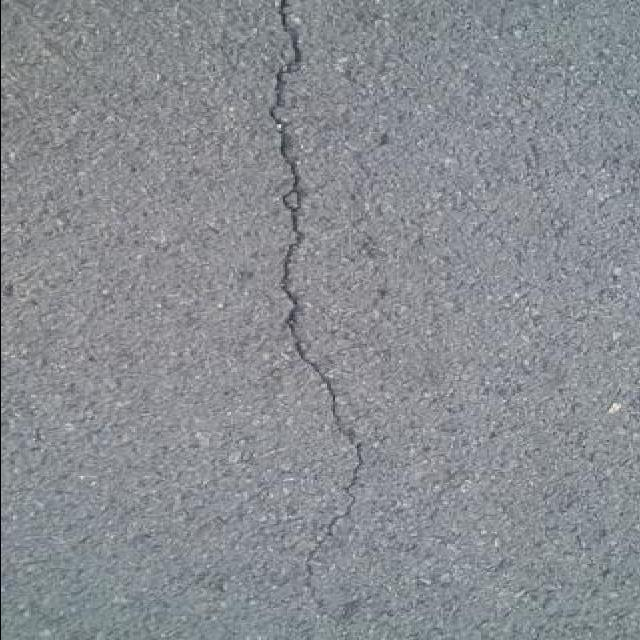Crack: (267, 0, 364, 574)
